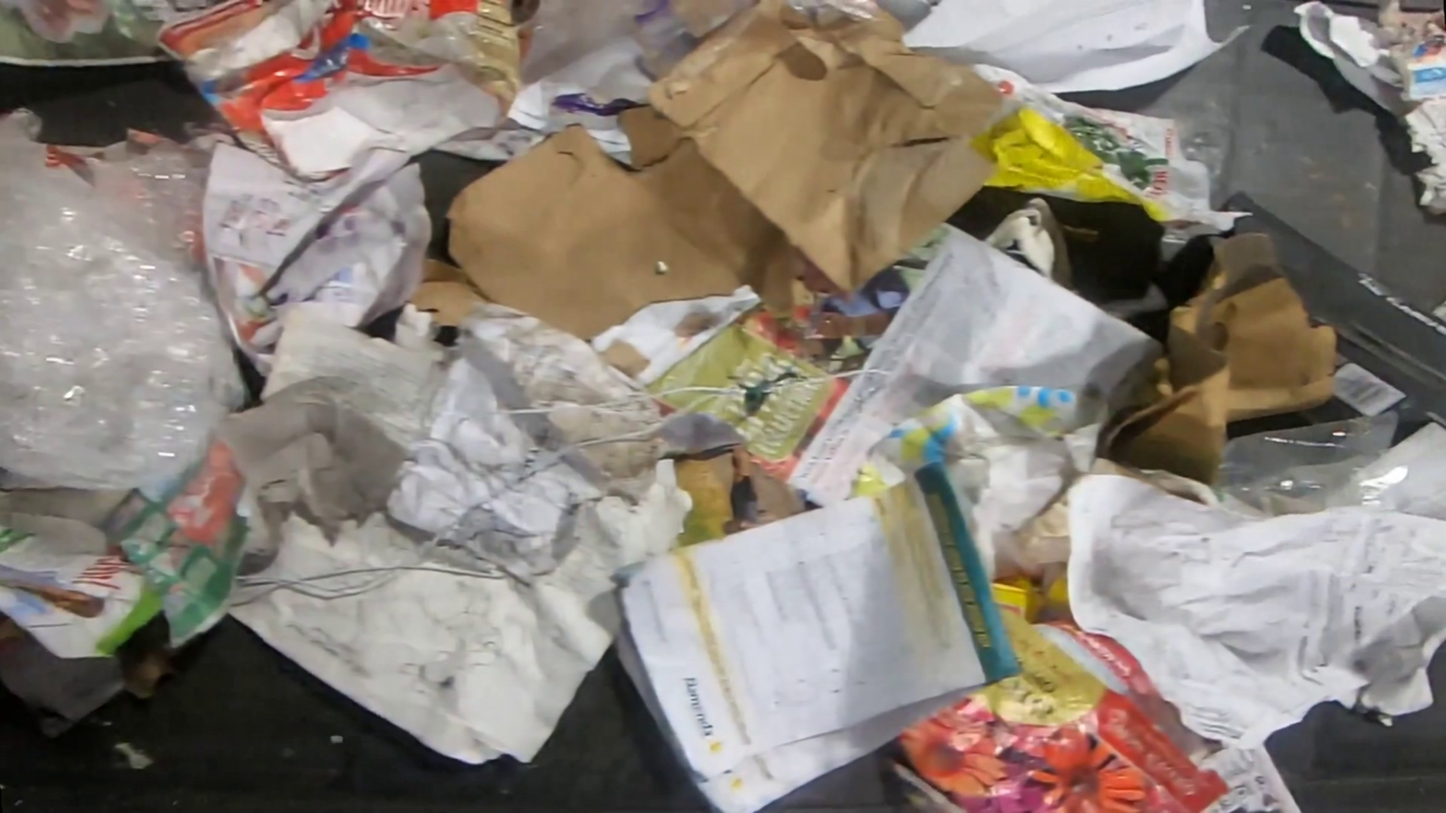cardboard: (405, 0, 1014, 344), (147, 0, 548, 183), (851, 383, 1166, 583), (1098, 232, 1340, 487), (1216, 191, 1446, 445), (987, 577, 1067, 625)
plastic: (0, 105, 256, 495), (1211, 407, 1413, 522)
